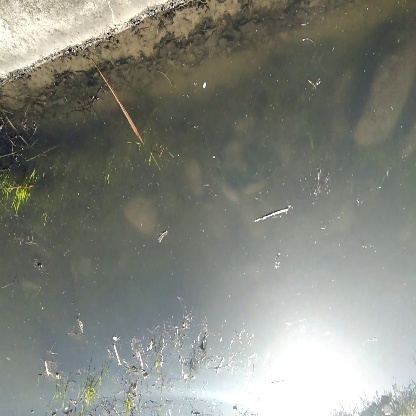branch: (249, 198, 296, 234)
